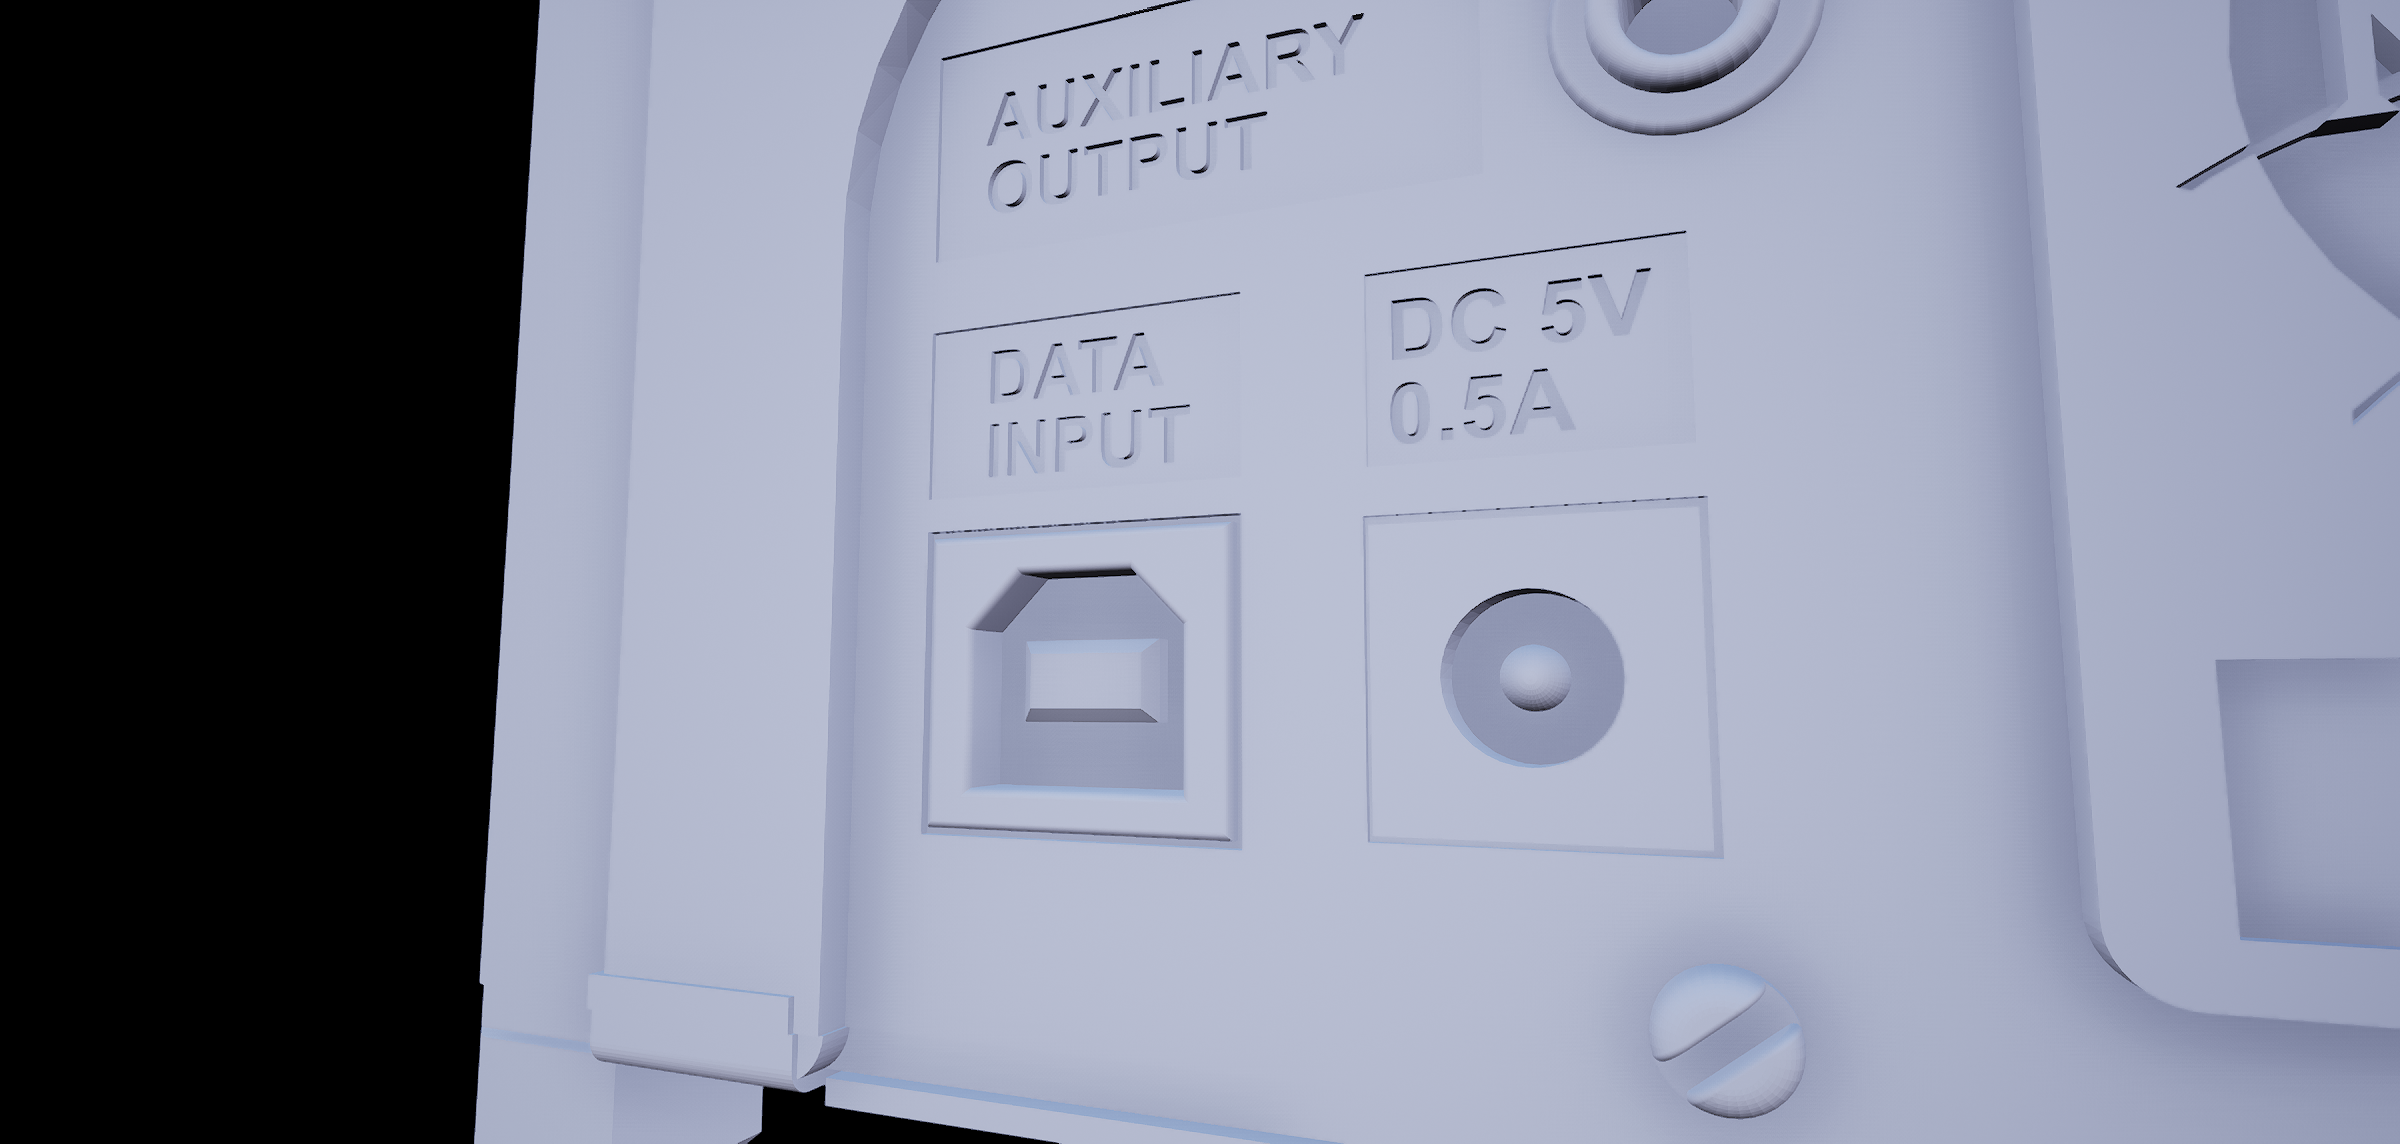aux: (1547, 2, 1823, 153)
dc: (1427, 568, 1650, 783)
usb: (963, 554, 1197, 812)
